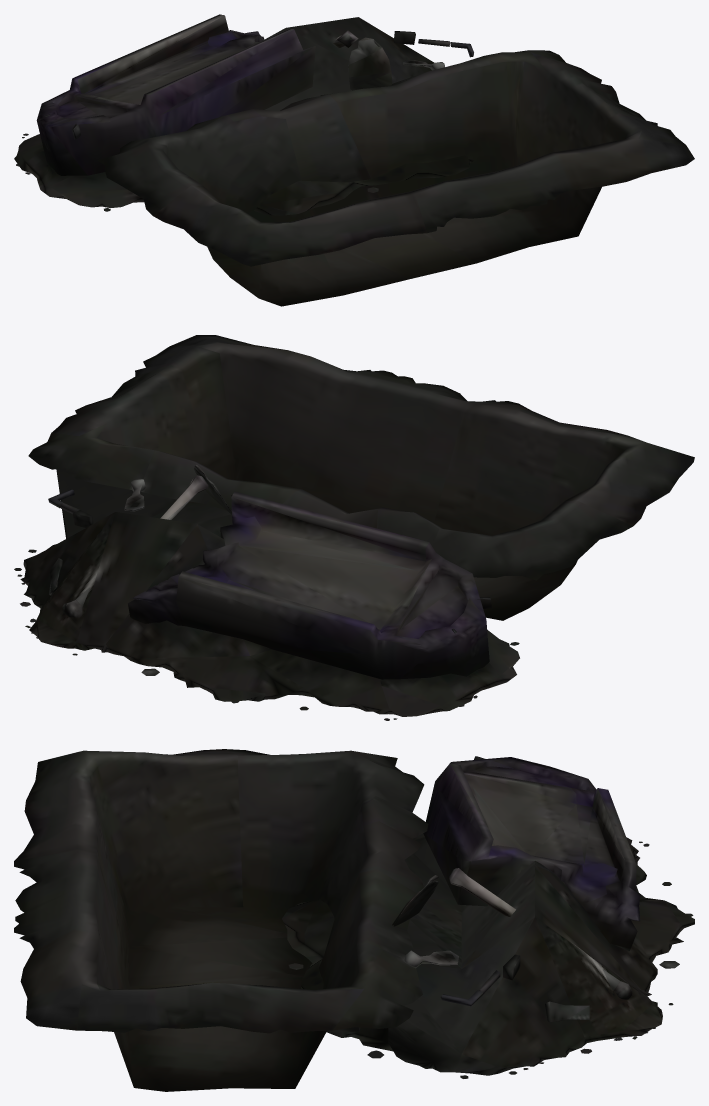
Rendered from prop_node_dug_grave.glb.
The picture shows the model from 3 angles, top to bottom: view 1: azimuth 30°, elevation 25°; view 2: azimuth 150°, elevation 25°; view 3: azimuth 270°, elevation 25°; orthographic projection. The views are drawn at different scales.
Visible parts, largest first — view 1: tripo_node_6c47c397-7414-4d50-b9be-05dce6502b87; view 2: tripo_node_6c47c397-7414-4d50-b9be-05dce6502b87; view 3: tripo_node_6c47c397-7414-4d50-b9be-05dce6502b87.
Boxes of the visible parts, x1,y1,x2,y2 form: tripo_node_6c47c397-7414-4d50-b9be-05dce6502b87: (14,14,694,306); tripo_node_6c47c397-7414-4d50-b9be-05dce6502b87: (14,335,694,720); tripo_node_6c47c397-7414-4d50-b9be-05dce6502b87: (14,749,694,1091).
Bounding box in the file's own units: 0.9864 × 0.2754 × 0.998.
1 material, 1 textured.
